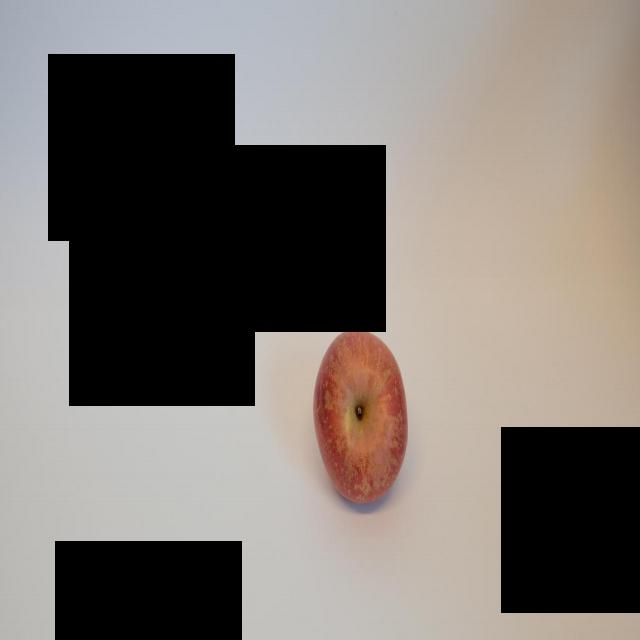apple: (313, 327, 409, 511)
